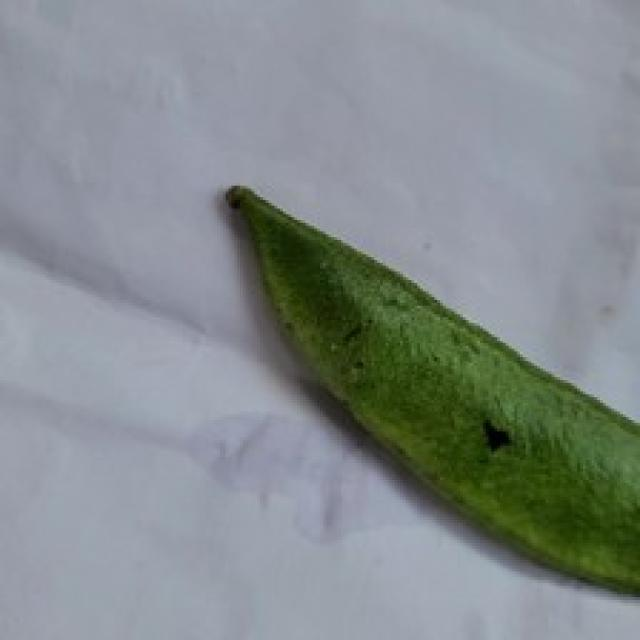Bean: (220, 180, 637, 611)
